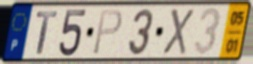3: (193, 6, 224, 58), (126, 7, 155, 57)
5: (57, 8, 89, 58)
P: (91, 8, 124, 57)
T: (35, 10, 59, 56)
X: (160, 8, 195, 57)
